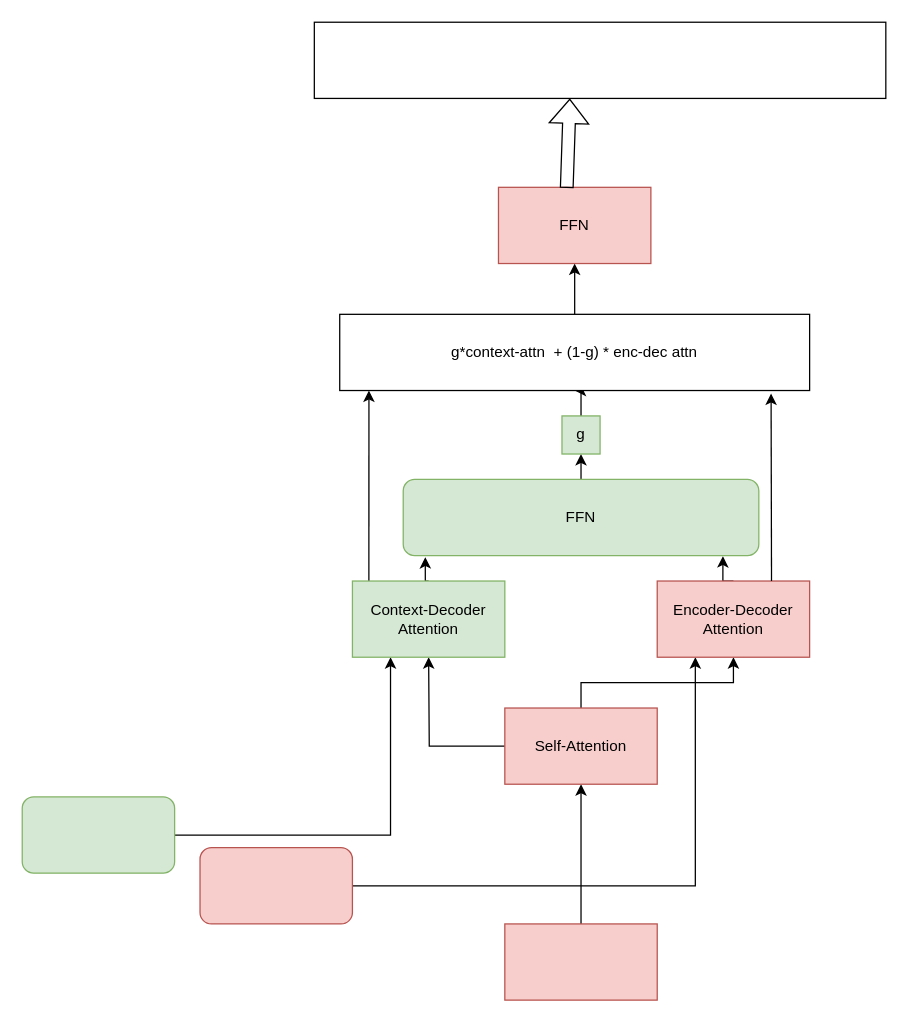
The diagram is 908 pixels wide and 1022 high, and some of its shapes have lost their labels. Here are the shapes that lost their labels. From the top down, the box of each, then its label:
(313, 21, 886, 98): Translation of Question <sep> Translation of Answer
(21, 796, 175, 873): Context Encoder
(199, 846, 352, 924): Source Encoder
(504, 923, 657, 1000): Target Embedding
